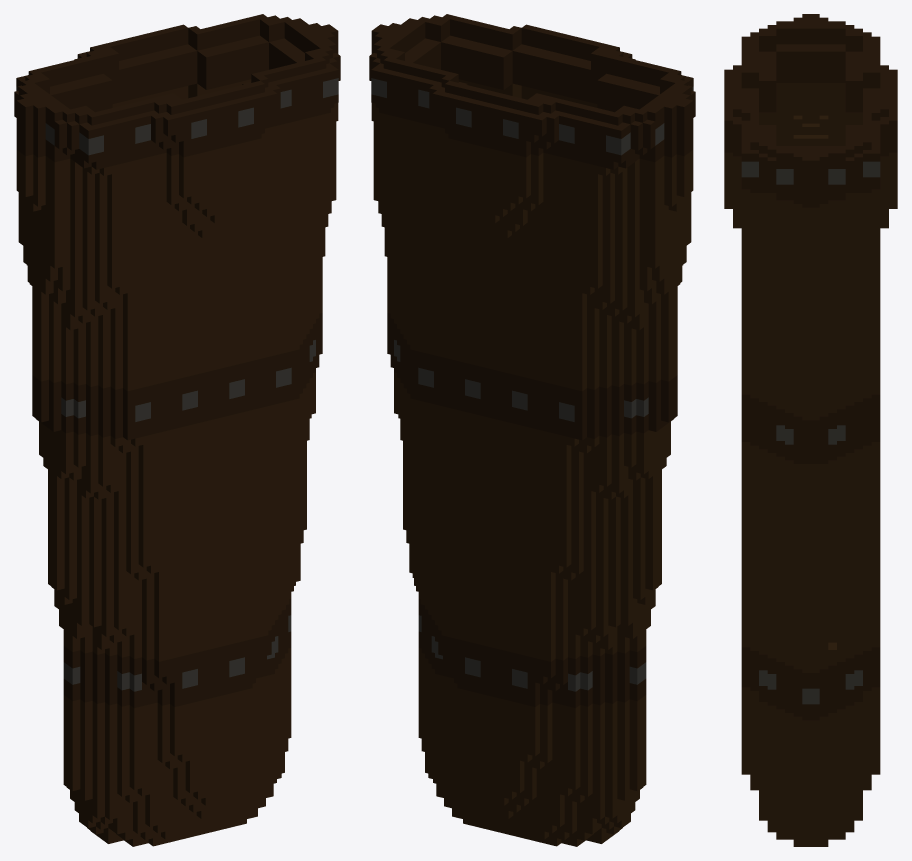
Rendered from Quiver-Leather-Large.obj.
The picture shows the model from 3 angles, left to right: view 1: azimuth 30°, elevation 25°; view 2: azimuth 150°, elevation 25°; view 3: azimuth 270°, elevation 25°; orthographic projection. The views are drawn at different scales.
Bounding box in the file's own units: 4 × 9.2 × 2.
1 material, 1 textured.
